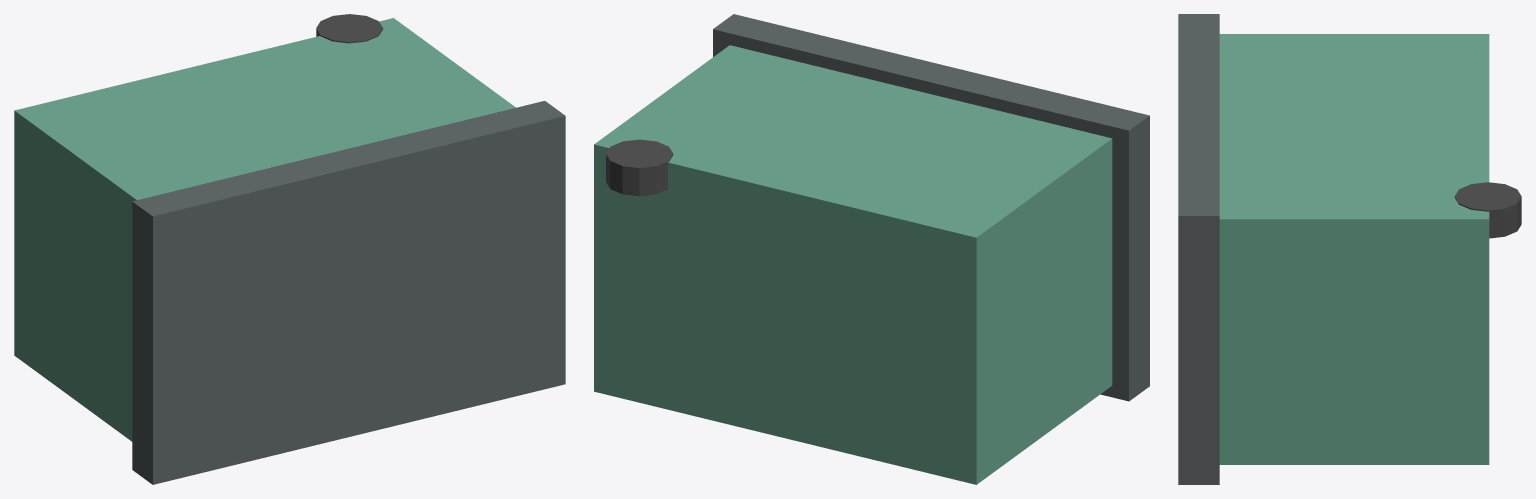
Rendered from city_green_dumpster.glb.
The picture shows the model from 3 angles, left to right: view 1: azimuth 30°, elevation 25°; view 2: azimuth 150°, elevation 25°; view 3: azimuth 270°, elevation 25°; orthographic projection.
Parts seen in each view (by area): view 1: lid, body, wheel; view 2: body, lid, wheel; view 3: body, lid, wheel.
Part boxes in pixels (x1,y1,x2,y2): lid: (132,101,565,484); body: (14,18,515,441); wheel: (316,14,383,43); body: (594,45,1112,484); lid: (713,14,1149,401); wheel: (606,139,673,196); body: (1219,34,1489,464); lid: (1178,14,1219,484); wheel: (1454,182,1521,238).
Size of the model in its own units: 1.85 by 1.15 by 1.33.
